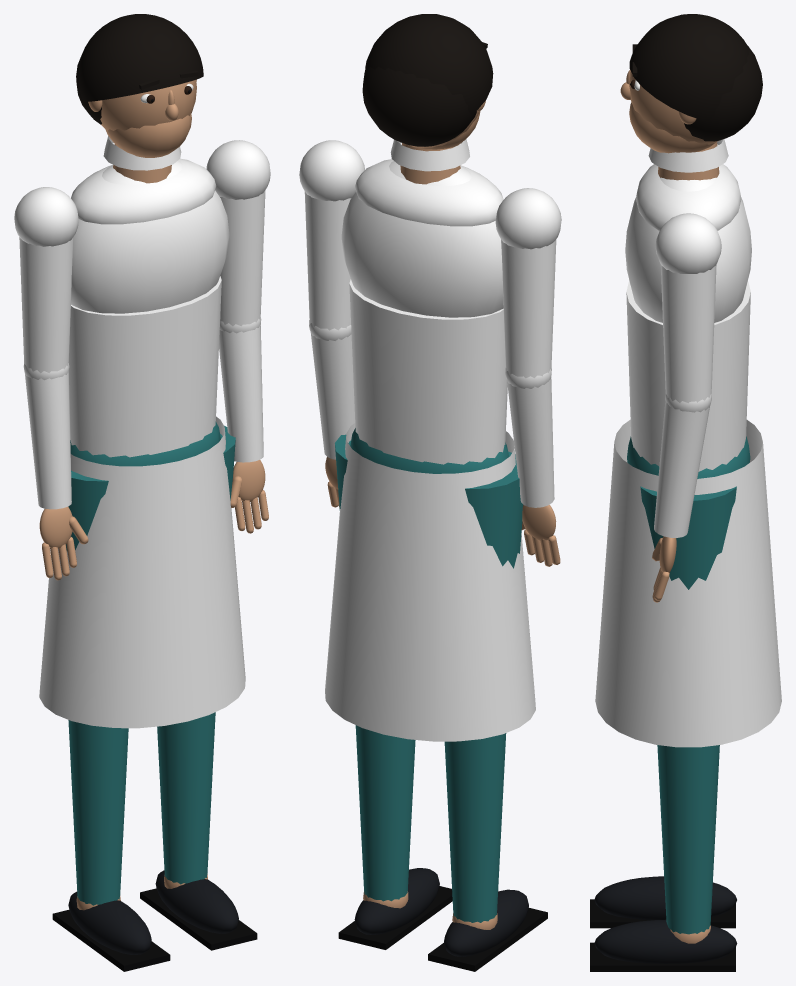
File: villager-medic.glb
3 views of the same model, side by side, from view 1: azimuth 30°, elevation 25°; view 2: azimuth 150°, elevation 25°; view 3: azimuth 270°, elevation 25° (orthographic). The views are drawn at different scales.
Visible parts, largest first — view 1: villager-medic, arm (×2), leg (×2), object 1, object 2, object 22, object 3, object 7, object 8, object 6, object 5; view 2: villager-medic, leg (×2), arm (×2), object 1, object 2, object 22, object 23, object 3, object 6, object 5; view 3: villager-medic, leg (×2), arm, object 1, object 22, object 2, object 3, object 23, object 7, object 6, object 8, object 5.
Boxes of the visible parts, x1,y1,x2,y2 form: villager-medic: (39,416,245,728); arm (×2): (14,140,270,580); leg (×2): (52,425,257,971); object 1: (68,276,221,457); object 2: (71,160,229,313); object 22: (78,14,203,101); object 3: (71,158,216,224); object 7: (100,80,196,131); object 8: (105,113,191,157); object 6: (103,136,181,170); object 5: (113,144,171,183); villager-medic: (325,423,535,741); leg (×2): (335,434,547,971); arm (×2): (299,140,561,566); object 1: (349,279,507,464); object 2: (341,161,503,317); object 22: (365,14,493,114); object 23: (362,67,476,146); object 3: (355,159,503,226); object 6: (390,139,469,171); object 5: (400,143,460,184); villager-medic: (595,419,781,747); leg (×2): (590,486,737,971); arm: (652,213,721,602); object 1: (626,281,750,471); object 22: (629,14,749,121); object 2: (625,177,751,322); object 3: (636,164,741,230); object 23: (684,45,762,141); object 7: (629,71,718,144); object 6: (648,139,728,172); object 8: (629,102,715,153); object 5: (658,142,719,180).
Size of the model in its own units: 0.5851 by 2.03 by 0.3837.
